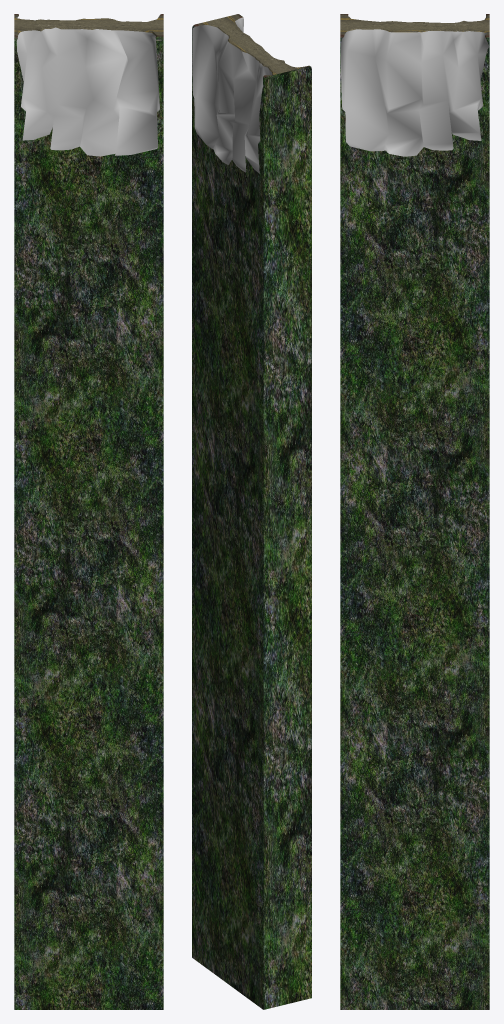
The model's file is Broken from both.fbx.
The picture shows the model from 3 angles, left to right: view 1: azimuth 90°, elevation 25°; view 2: azimuth 210°, elevation 25°; view 3: azimuth 270°, elevation 25°; orthographic projection. The views are drawn at different scales.
Visible parts, largest first — view 1: Broken from both; view 2: Broken from both; view 3: Broken from both.
Part boxes in pixels (<box>): Broken from both: <box>14,14,163,1009</box>; Broken from both: <box>192,14,311,1009</box>; Broken from both: <box>340,14,489,1009</box>.
Bounding box in the file's own units: 410 × 7538 × 1047.
